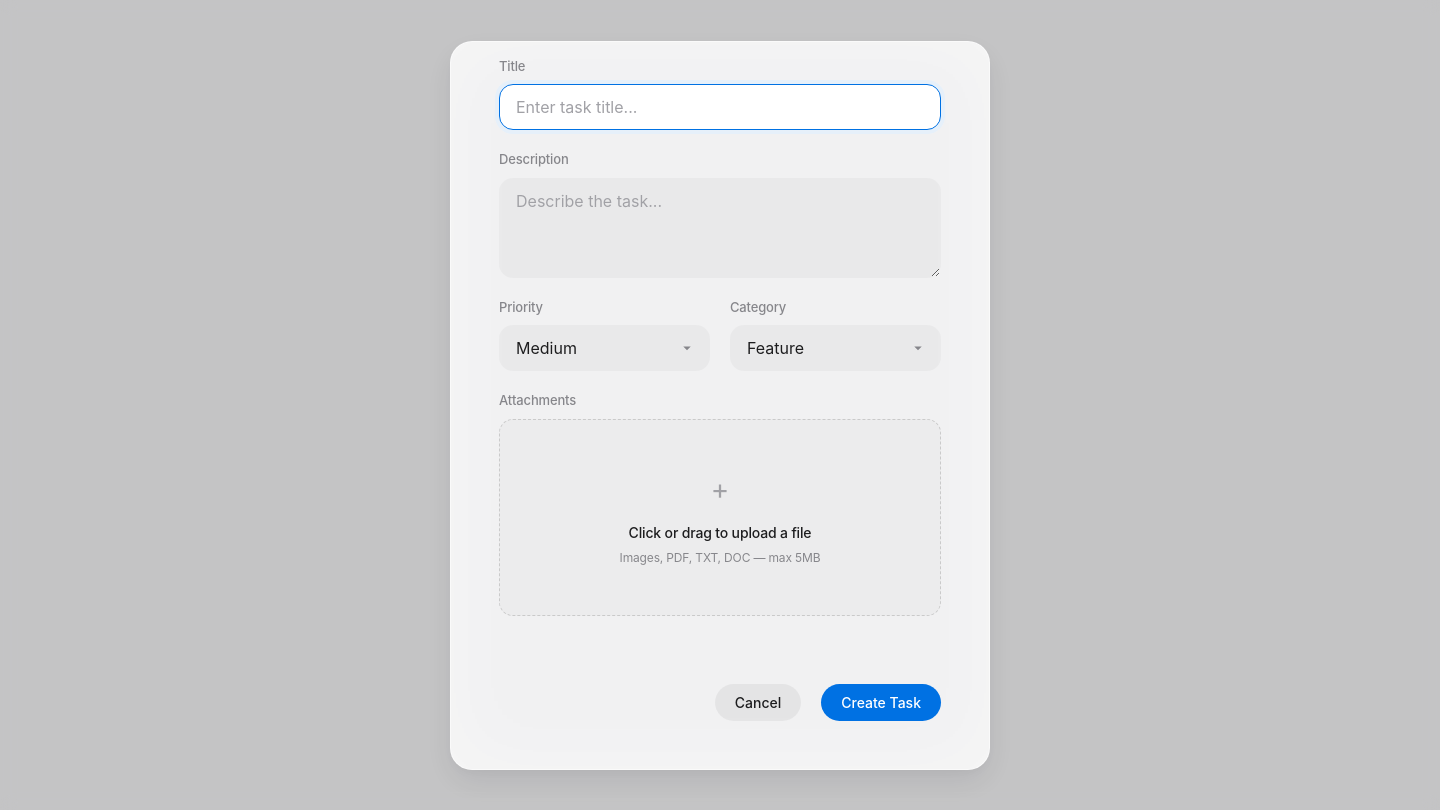
Test: TaskModal › shows title error when submitting without title
(page scrolled)
Click the button with test id "modal-save-btn" at (881, 702), box top-left (821, 684), bottom-right (941, 721)
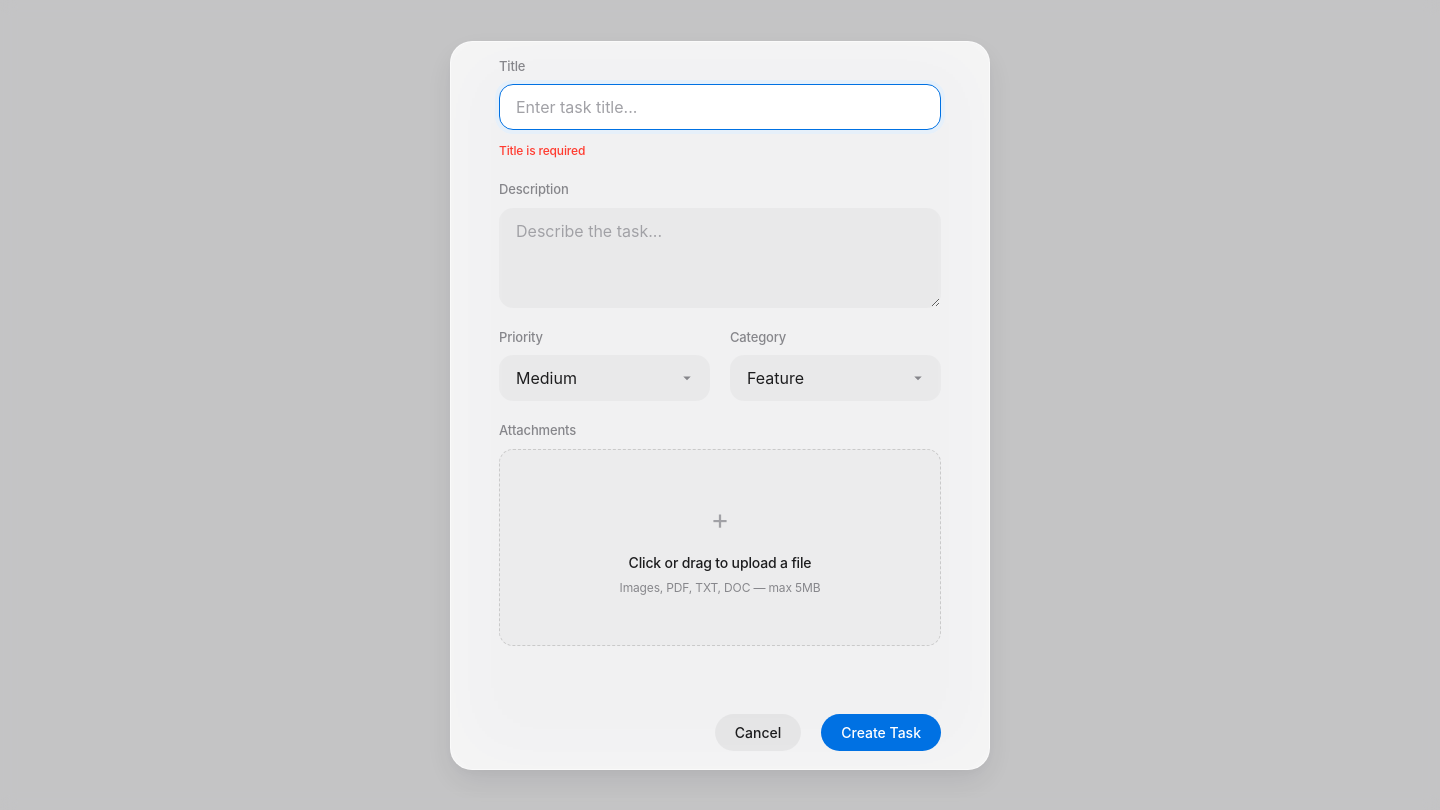
expect the text with test id "title-error" reads "Title is required": met, box top-left (499, 143), bottom-right (585, 158)
